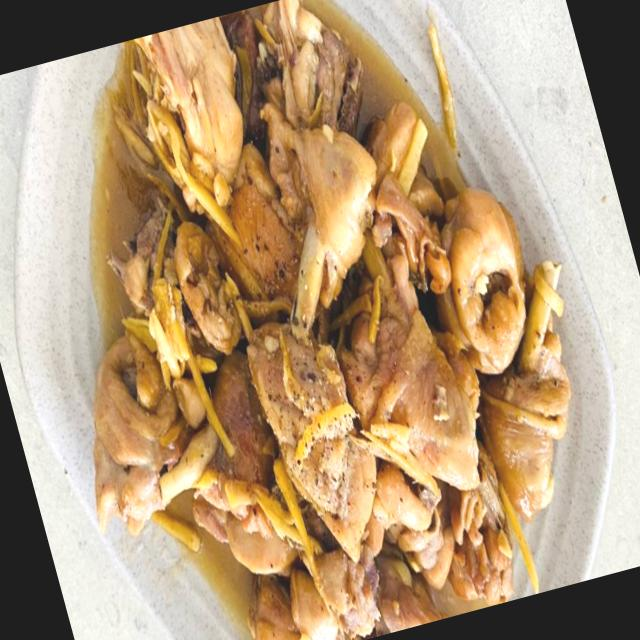ga kho: (94, 0, 571, 640)
